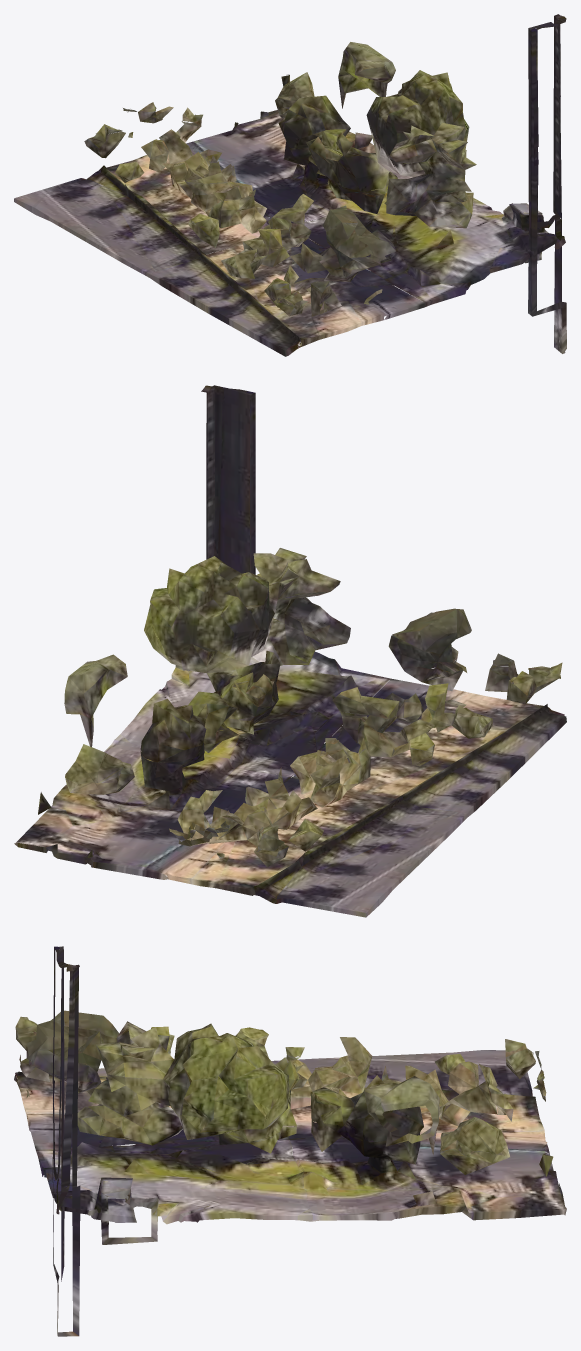
3 views of the same model, one above another, from view 1: azimuth 30°, elevation 25°; view 2: azimuth 150°, elevation 25°; view 3: azimuth 270°, elevation 25° (orthographic). The views are drawn at different scales.
Parts seen in each view (by area): view 1: Mesh_0; view 2: Mesh_0; view 3: Mesh_0.
Part boxes in pixels (box(x1,y1,x2,y2)): Mesh_0: box(14, 14, 566, 356); Mesh_0: box(14, 385, 566, 917); Mesh_0: box(14, 946, 566, 1336).
Size of the model in its own units: 67.38 by 61.51 by 82.63.
Materials: 1 (1 with a texture image).
